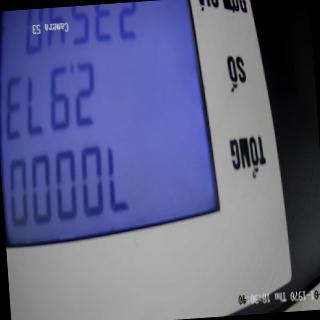screen: (0, 0, 228, 253)
